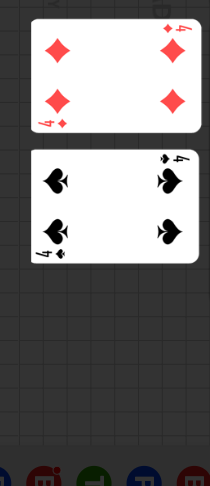4S: (159, 152, 192, 165), (35, 247, 68, 260)
